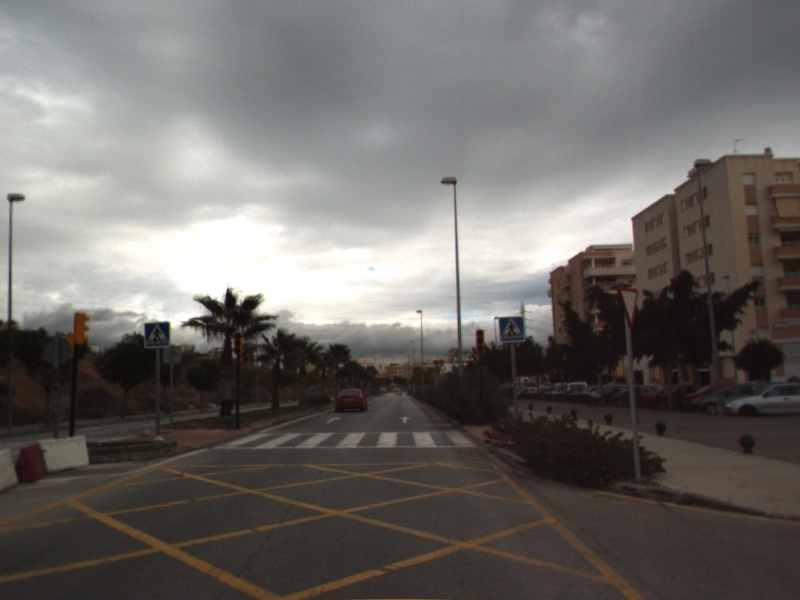STRAIGHT: (324, 414, 343, 425), (397, 414, 413, 425)
